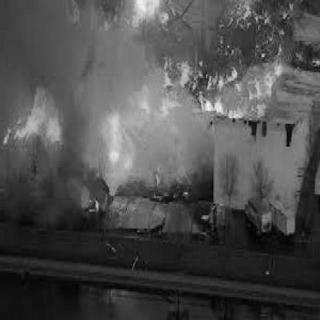Fire: (6, 4, 296, 197)
